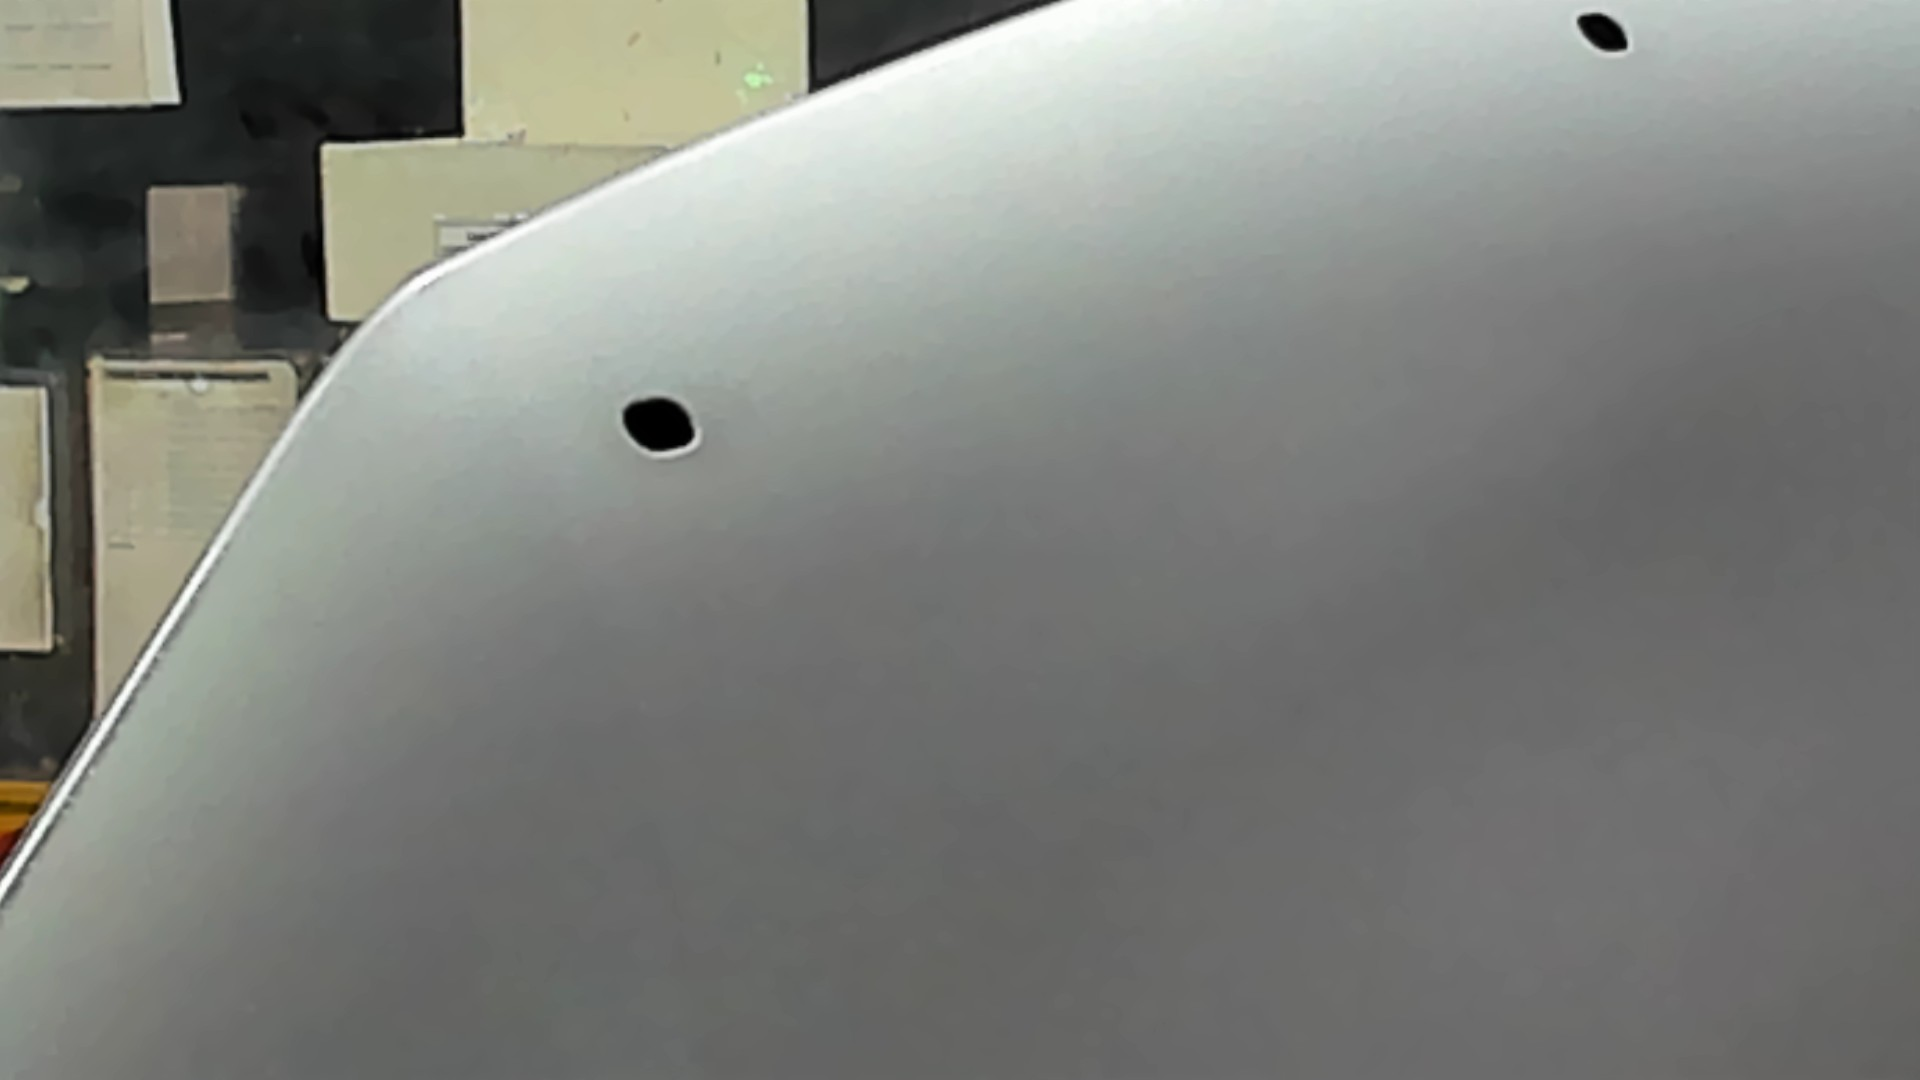chico: (591, 385, 721, 468), (1569, 13, 1642, 61)
